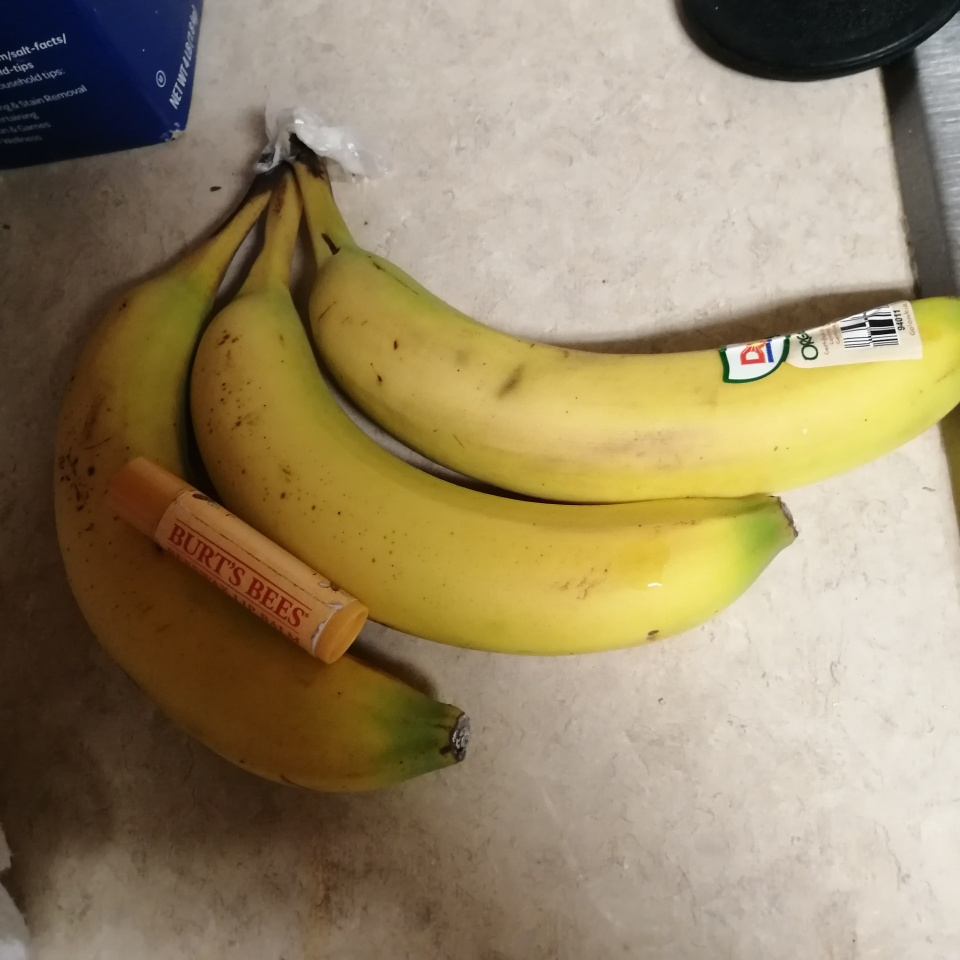chapstick: (105, 456, 369, 665)
